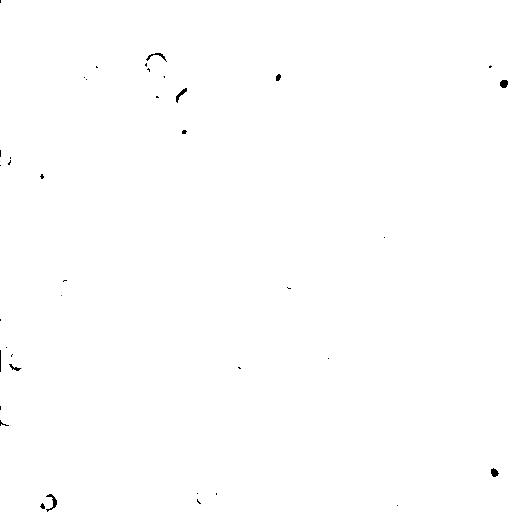micro-algae: (135, 58, 209, 130), (445, 53, 512, 131), (367, 145, 428, 206), (429, 464, 470, 505), (260, 56, 298, 93), (237, 150, 274, 187), (1, 341, 35, 380), (180, 35, 217, 69), (483, 28, 512, 64), (475, 453, 507, 484), (317, 321, 346, 355), (244, 326, 278, 353), (141, 51, 173, 78), (29, 81, 56, 113), (173, 87, 205, 113), (165, 123, 199, 147), (487, 66, 512, 97), (254, 296, 280, 322), (191, 421, 215, 449), (438, 1, 473, 20), (163, 69, 189, 94), (369, 0, 398, 22), (159, 37, 184, 61), (195, 482, 219, 507), (113, 219, 137, 243), (57, 276, 82, 299), (82, 63, 105, 87), (374, 231, 395, 257), (114, 489, 138, 511), (233, 350, 255, 373), (0, 403, 20, 428), (143, 397, 168, 417), (131, 355, 155, 375), (391, 434, 411, 457), (394, 494, 419, 511), (327, 349, 349, 368), (99, 427, 119, 447), (210, 389, 227, 411), (23, 499, 51, 512), (39, 493, 59, 511), (279, 271, 299, 289), (130, 301, 147, 322), (172, 0, 201, 12), (1, 147, 13, 169), (27, 170, 46, 183)
